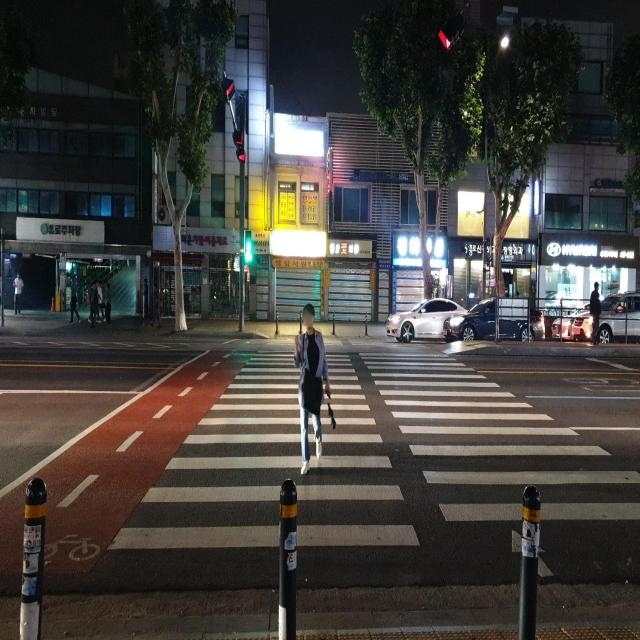초록불: (242, 228, 254, 267)
횡단보도: (105, 348, 640, 580)
